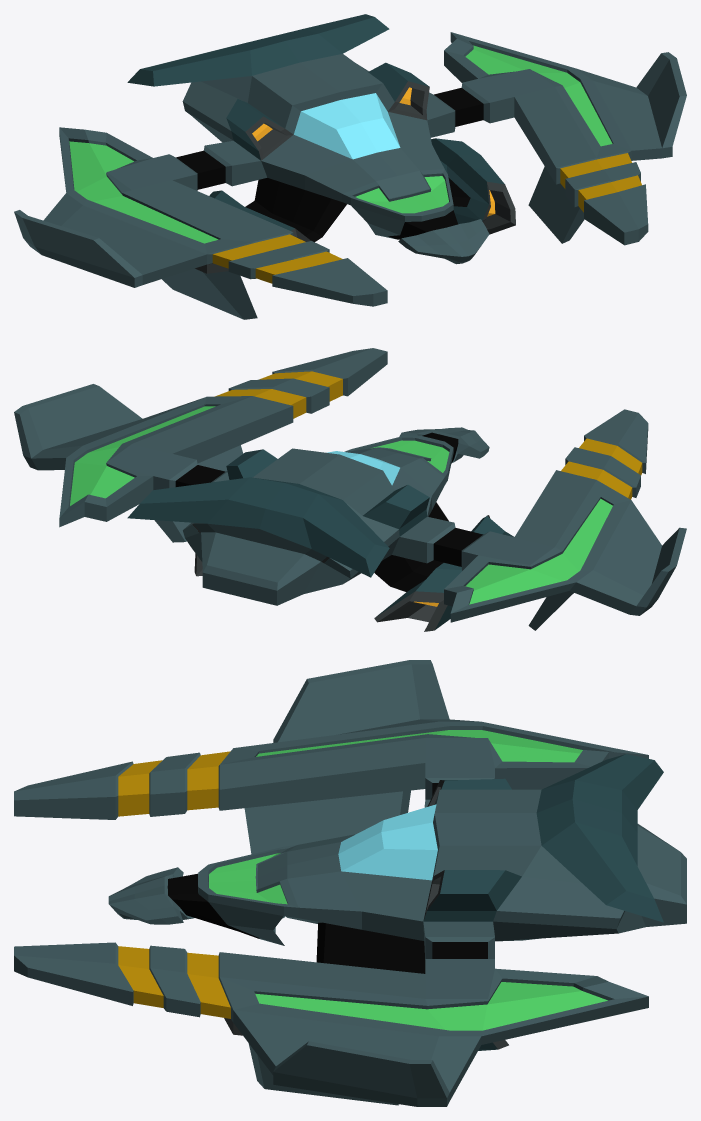
The model's file is spaceship.glb.
The picture shows the model from 3 angles, top to bottom: view 1: azimuth 30°, elevation 25°; view 2: azimuth 150°, elevation 25°; view 3: azimuth 270°, elevation 25°; orthographic projection. The views are drawn at different scales.
Visible parts, largest first — view 1: Spaceship; view 2: Spaceship; view 3: Spaceship.
Part boxes in pixels (bbox=[...]): Spaceship: bbox=[14, 14, 686, 319]; Spaceship: bbox=[14, 348, 686, 631]; Spaceship: bbox=[14, 660, 686, 1106].
Size of the model in its own units: 21.5 by 4.83 by 15.13.
1 material, 1 textured.
